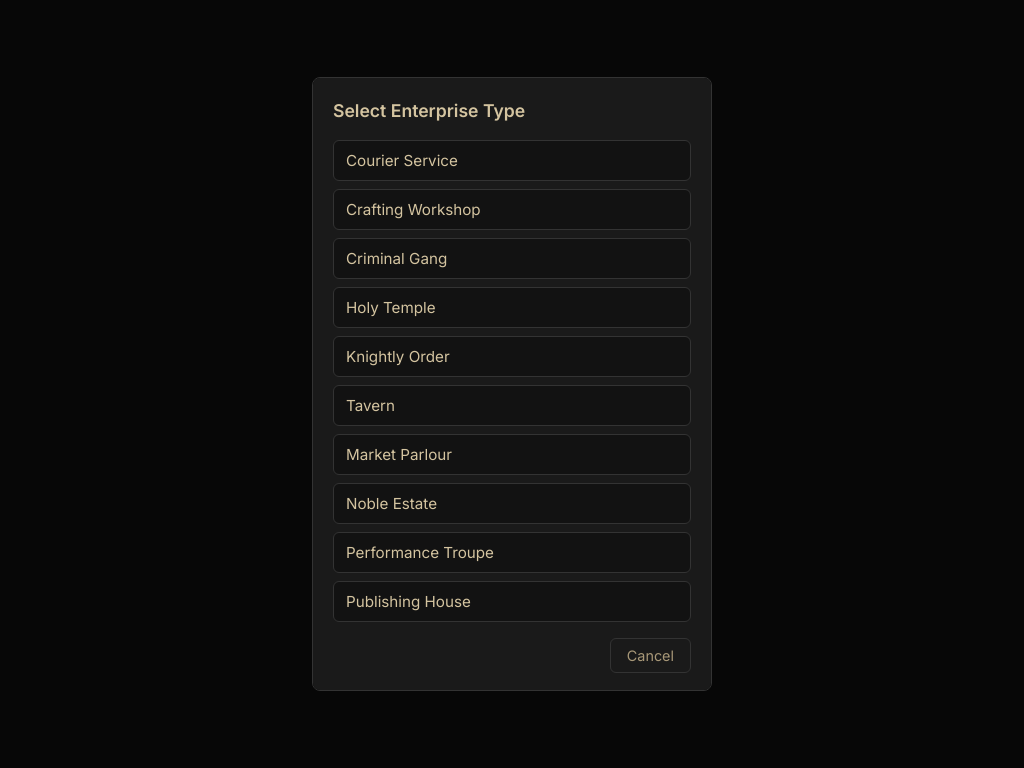
Test case: EnterpriseCreateFlow (Requirements 5.1, 5.3, 5.4, 5.5, 5.6) › selecting a template advances to the name input step
The image size is (1024, 768).
Click the button "Tavern" at (371, 406), box [333,385,691,426]
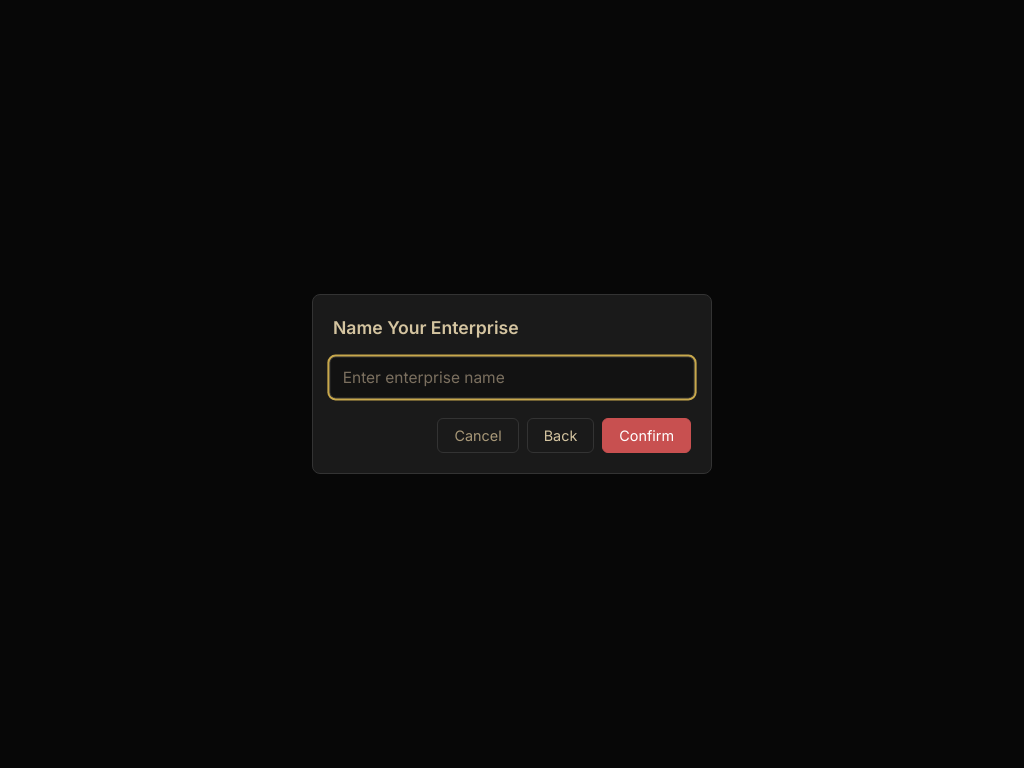
Check: the field labelled "enterprise name" is shown, box [329,357,695,399]
Check: the heading "Name Your Enterprise" is shown, box [333,317,519,338]
